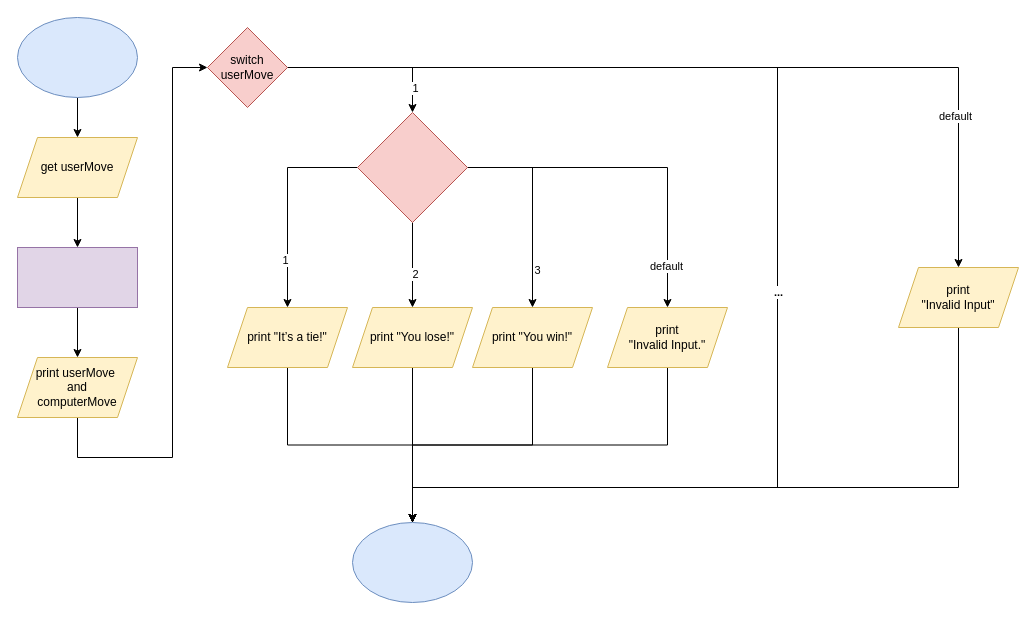
Some shapes in this 1036 by 620 pixel diagram are drawn without their labels. The box of each missing label's shape, as (x1, y1, x2, y2) in pixels:
generate computerMove: (16, 246, 138, 308)
Start: (16, 16, 138, 98)
Stop: (352, 522, 472, 602)
switch computerMove: (356, 112, 468, 222)
